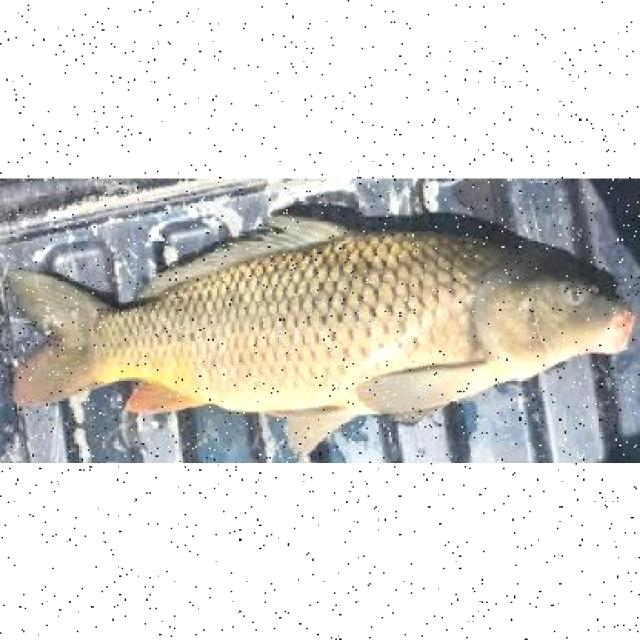ikan-mas: (13, 212, 636, 450)
